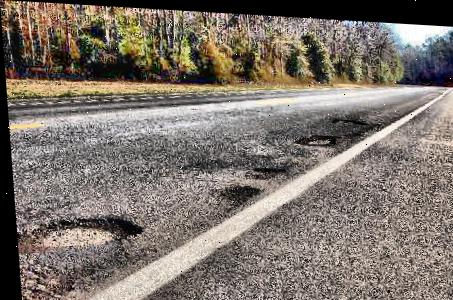pothole: (27, 211, 140, 253), (214, 180, 258, 203), (291, 128, 338, 145), (247, 161, 286, 177), (328, 112, 364, 123)
